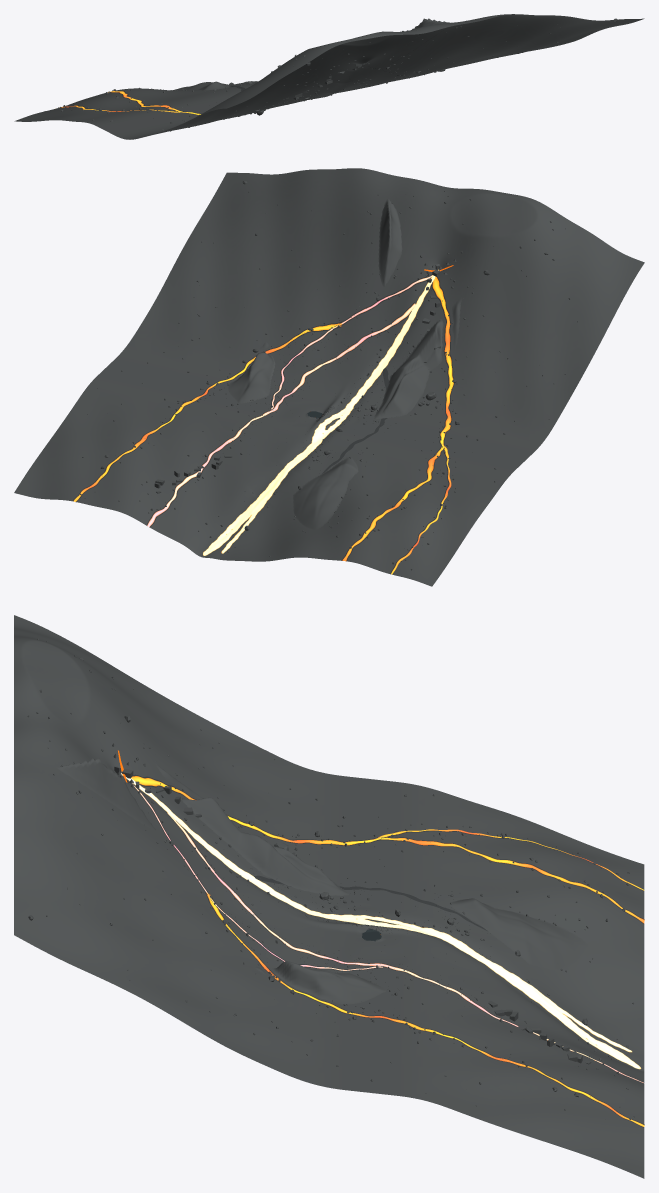
Rendered from ember-geology-stage-r1.glb.
The picture shows the model from 3 angles, top to bottom: view 1: azimuth 30°, elevation 25°; view 2: azimuth 150°, elevation 25°; view 3: azimuth 270°, elevation 25°; orthographic projection. The views are drawn at different scales.
Visible parts, largest first — view 1: EMBER_Terrain, EMBER_BakedTalus, EMBER_LowerRelictRidge, EMBER_UpperBasaltFin, EMBER_WestDistantFlow; view 2: EMBER_Terrain, EMBER_WestErodedRib, EMBER_LavaSimulatorDeposit, EMBER_LowerRelictRidge, EMBER_BakedTalus, EMBER_EastBrokenButtress, EMBER_UpperBasaltFin, EMBER_WestDistantFlow, EMBER_EastDistributary, EMBER_WestDistantFlow_Levees, EMBER_EastDistributary_Levees, EMBER_FarEastFlow (+3 smaller); view 3: EMBER_Terrain, EMBER_LavaSimulatorDeposit, EMBER_WestErodedRib, EMBER_LowerRelictRidge, EMBER_BakedTalus, EMBER_EastBrokenButtress, EMBER_UpperBasaltFin, EMBER_WestDistantFlow, EMBER_FarEastFlow, EMBER_EastDistributary, EMBER_WestDistantFlow_Levees, EMBER_FarEastFlow_Levees (+2 smaller).
Boxes of the visible parts, x1,y1,x2,y2 form: EMBER_Terrain: [14, 14, 644, 139]; EMBER_BakedTalus: [44, 18, 617, 136]; EMBER_LowerRelictRidge: [173, 81, 230, 90]; EMBER_UpperBasaltFin: [391, 18, 449, 62]; EMBER_WestDistantFlow: [108, 91, 200, 114]; EMBER_Terrain: [14, 168, 644, 586]; EMBER_WestErodedRib: [374, 297, 462, 419]; EMBER_LavaSimulatorDeposit: [203, 269, 438, 555]; EMBER_LowerRelictRidge: [293, 457, 358, 529]; EMBER_BakedTalus: [80, 181, 577, 570]; EMBER_EastBrokenButtress: [228, 341, 275, 403]; EMBER_UpperBasaltFin: [378, 198, 402, 286]; EMBER_WestDistantFlow: [342, 277, 453, 561]; EMBER_EastDistributary: [147, 303, 415, 526]; EMBER_WestDistantFlow_Levees: [341, 276, 454, 561]; EMBER_EastDistributary_Levees: [146, 302, 414, 527]; EMBER_FarEastFlow: [73, 323, 341, 501]; EMBER_Terrain: [14, 615, 644, 1178]; EMBER_LavaSimulatorDeposit: [121, 773, 641, 1069]; EMBER_WestErodedRib: [154, 762, 349, 895]; EMBER_LowerRelictRidge: [448, 898, 589, 970]; EMBER_BakedTalus: [27, 637, 634, 1119]; EMBER_EastBrokenButtress: [254, 961, 385, 1004]; EMBER_UpperBasaltFin: [56, 758, 155, 830]; EMBER_WestDistantFlow: [131, 776, 644, 923]; EMBER_FarEastFlow: [206, 892, 644, 1126]; EMBER_EastDistributary: [167, 812, 643, 1082]; EMBER_WestDistantFlow_Levees: [132, 774, 644, 924]; EMBER_FarEastFlow_Levees: [204, 891, 644, 1127].
Size of the model in its own units: 380 by 201 by 335.
